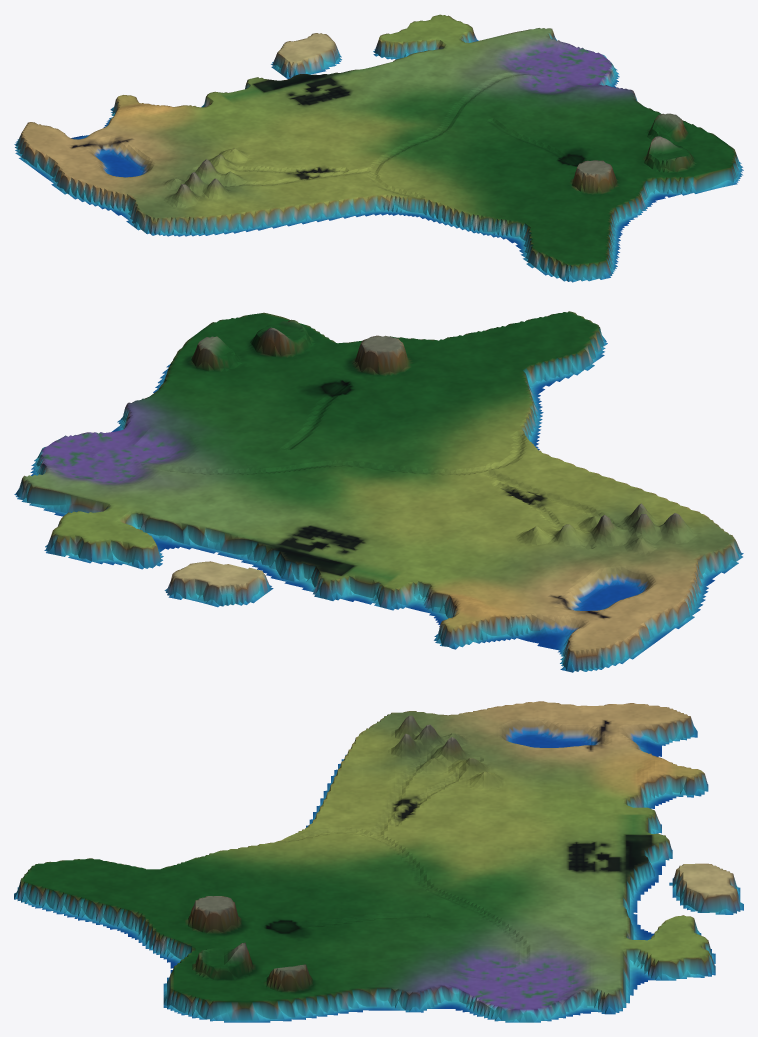
Rendered from venezuela_terrain.glb.
The picture shows the model from 3 angles, top to bottom: view 1: azimuth 30°, elevation 25°; view 2: azimuth 150°, elevation 25°; view 3: azimuth 270°, elevation 25°; orthographic projection. The views are drawn at different scales.
Parts seen in each view (by area): view 1: terrain; view 2: terrain; view 3: terrain.
Part boxes in pixels (x1,y1,x2,y2): terrain: (14, 14, 743, 282); terrain: (14, 311, 743, 672); terrain: (14, 701, 743, 1022).
Size of the model in its own units: 946 by 57.12 by 946.
